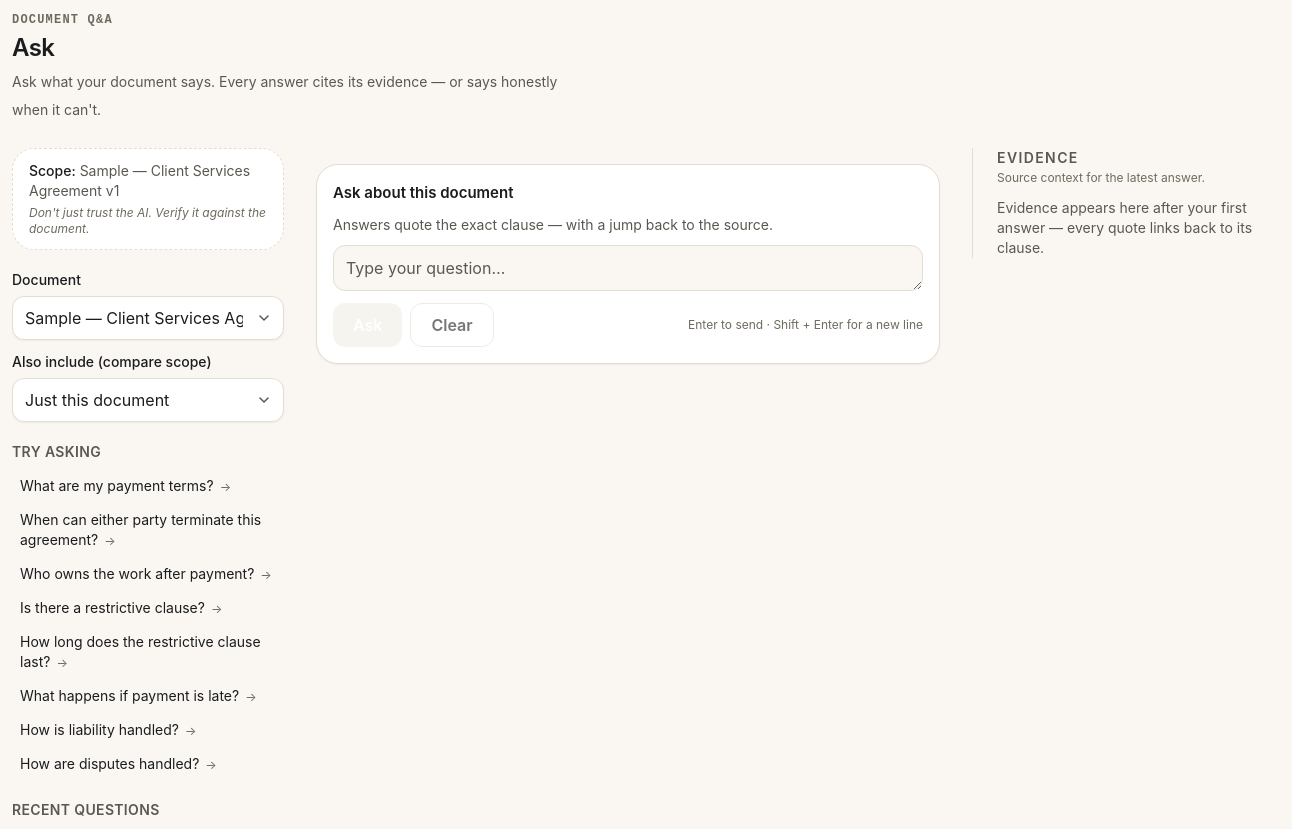
Test: AskWorkspace › shows professional-review prompts for out-of-scope questions
Step 1. Type "Is this legal?" into the text box labelled "Ask about this document" → (628, 268), box [333, 245, 923, 291]
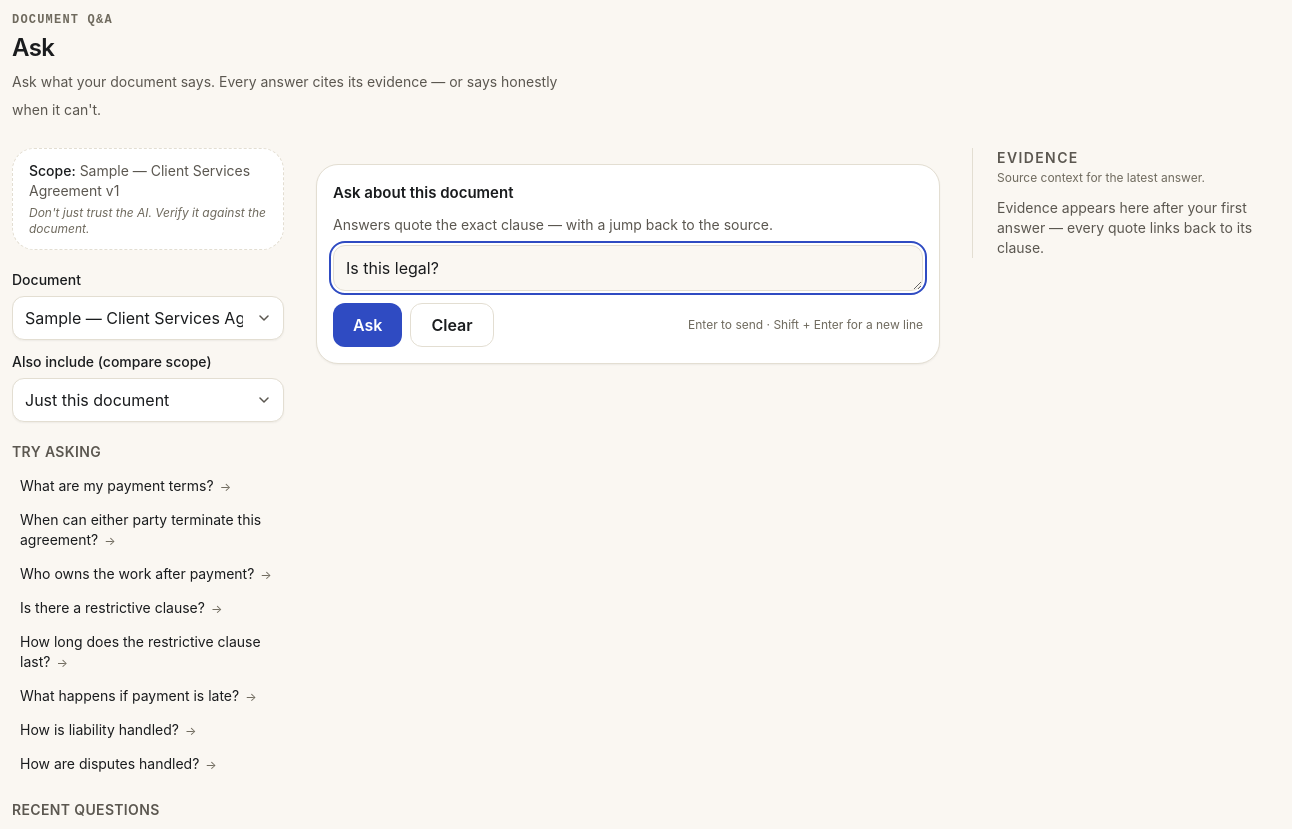
Step 2. Click the button "Ask" → (368, 325), box [333, 303, 402, 347]
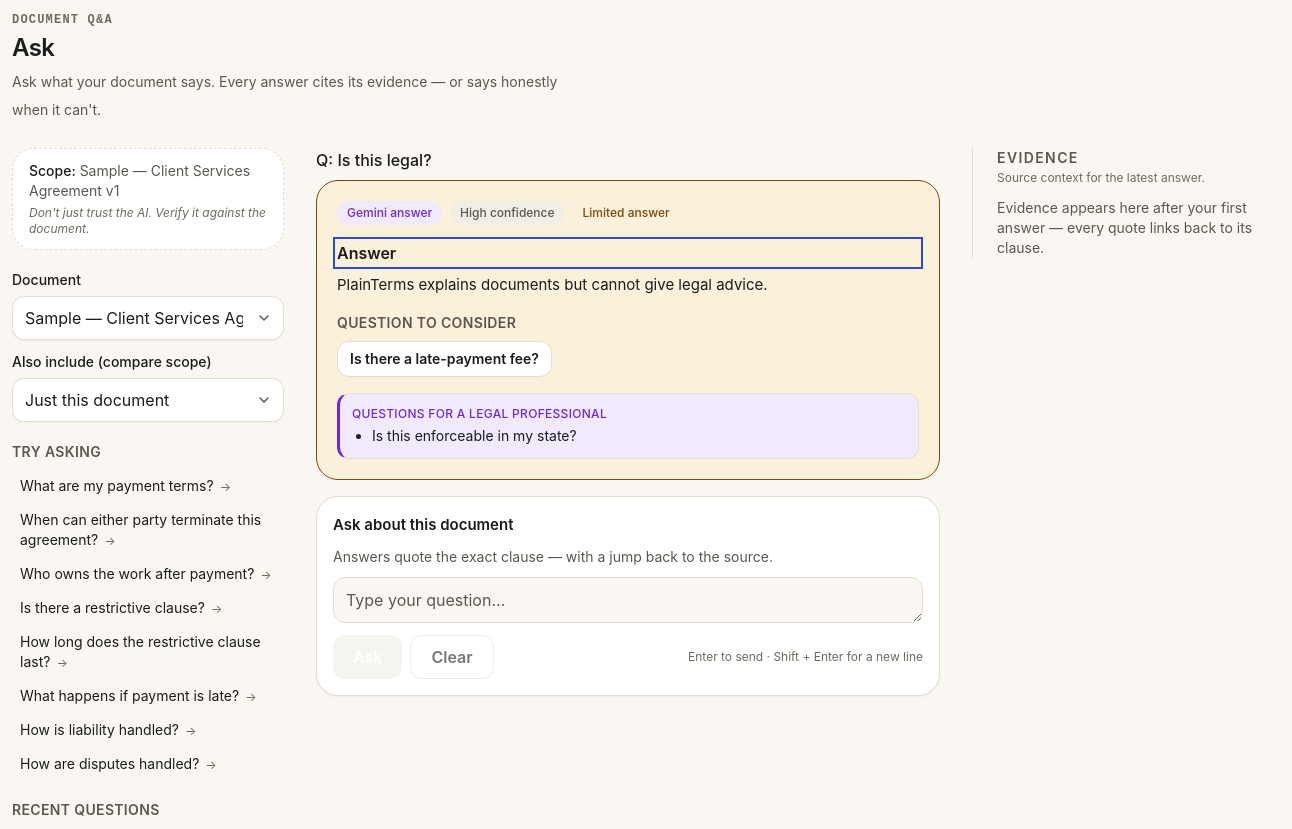
Expected: the text "Questions for a legal professional" is shown, [352, 406, 607, 421]
